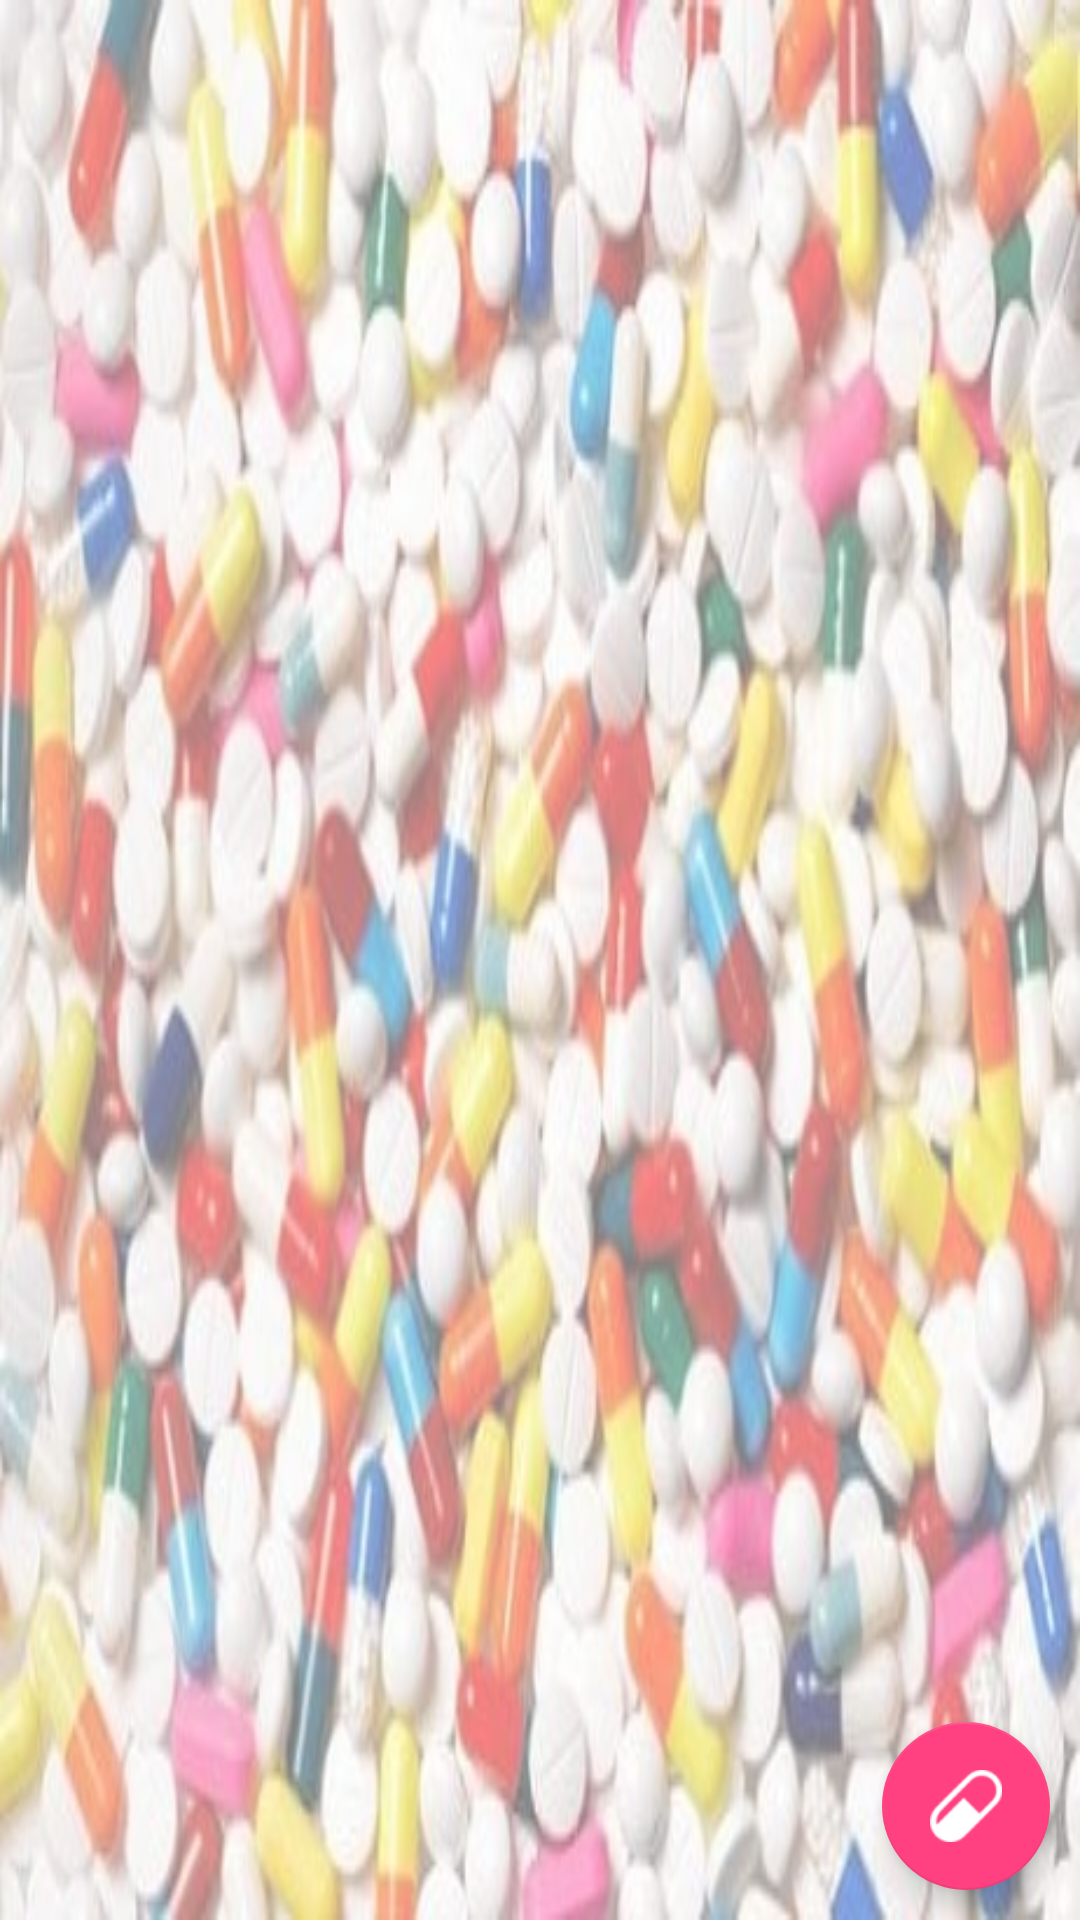

Icons on this 1080px x 1920px Android screen, each with the point to tap as [x,y]:
pill: [966,1806]
